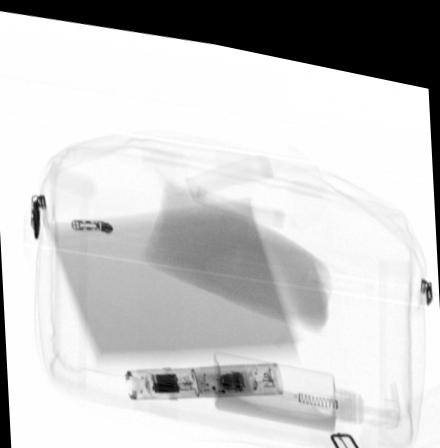Baton: (124, 350, 285, 397)
